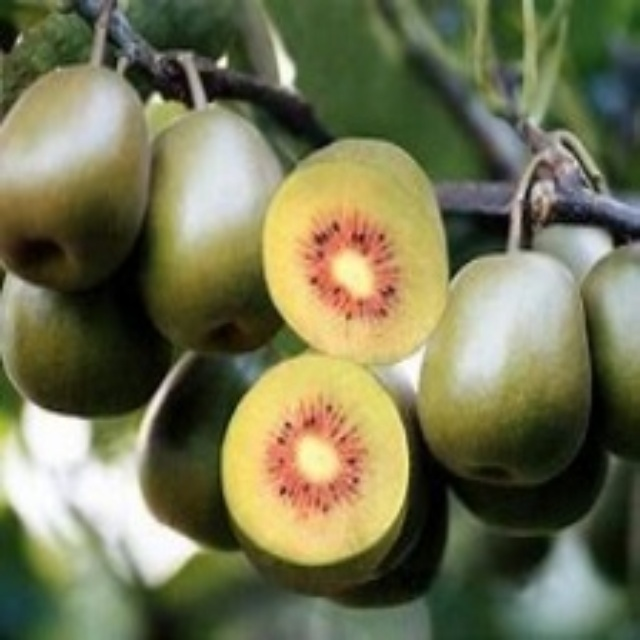kiwi: (261, 115, 451, 605), (417, 241, 600, 509), (111, 344, 298, 556), (11, 57, 154, 309), (135, 107, 277, 355)
